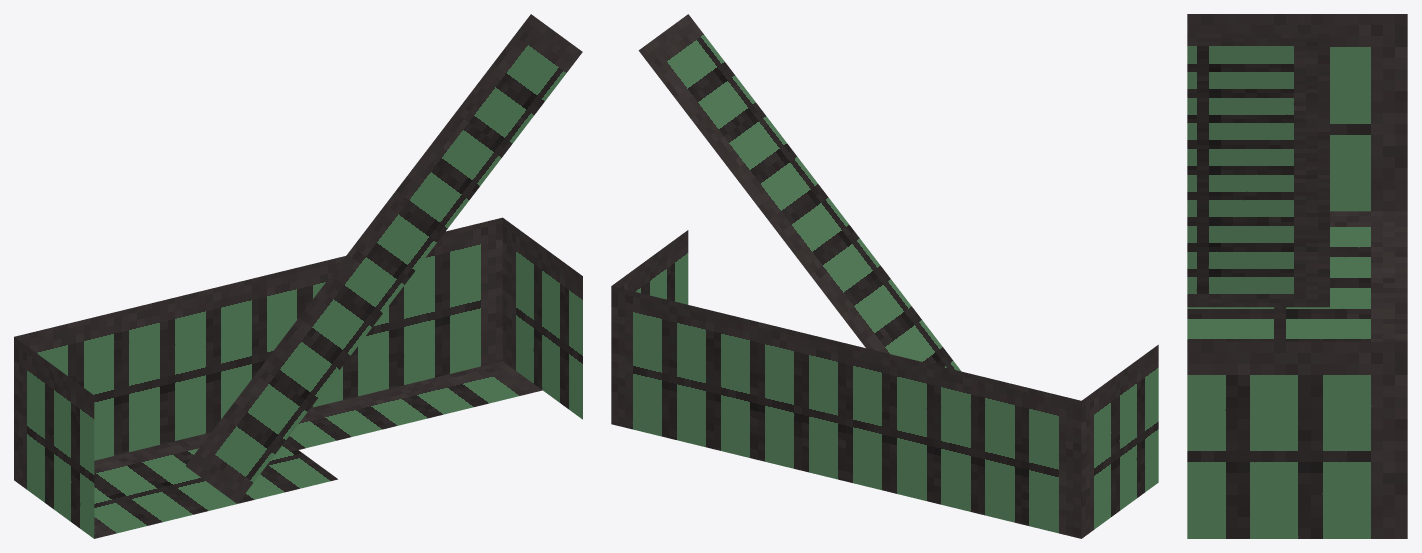
File: balcony-ladder-bottom.opt.glb
3 renders of one model, left to right at view 1: azimuth 30°, elevation 25°; view 2: azimuth 150°, elevation 25°; view 3: azimuth 270°, elevation 25°, orthographic. The views are drawn at different scales.
Bounding box in the file's own units: 1 × 0.7192 × 0.2838.
1 material, 1 textured.
